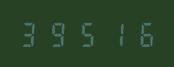five: (72, 20, 98, 47)
nine: (45, 20, 71, 47)
one: (99, 20, 125, 47)
six: (126, 20, 152, 47)
three: (18, 20, 44, 47)
